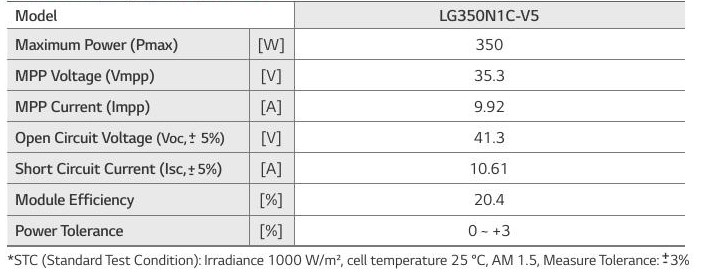table: (1, 1, 718, 254)
table column: (298, 3, 687, 250), (9, 2, 247, 251), (251, 3, 293, 249)
table row: (3, 61, 693, 89), (3, 124, 694, 150), (4, 31, 692, 57), (2, 187, 696, 212), (3, 218, 696, 243), (3, 94, 693, 119), (4, 155, 694, 180), (5, 4, 690, 27)
table spanning cell: (9, 6, 293, 26)
